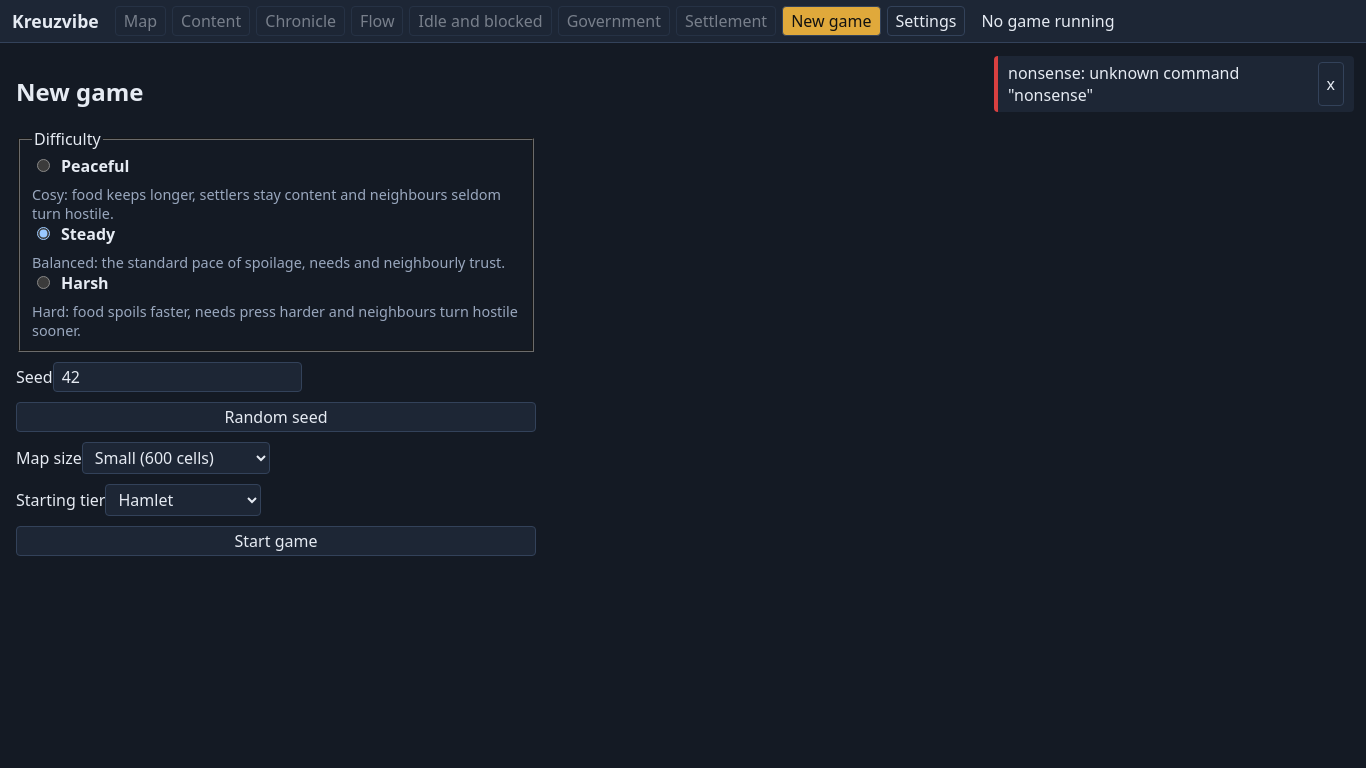
Test: AppShell › shows toasts and dismisses them
Expected: the text "nonsense: unknown command \"nonsense\"" is shown, [1008, 62, 1239, 106]
Click the button named "Dismiss" at {"x": 1331, "y": 84}, box [1318, 62, 1344, 106]
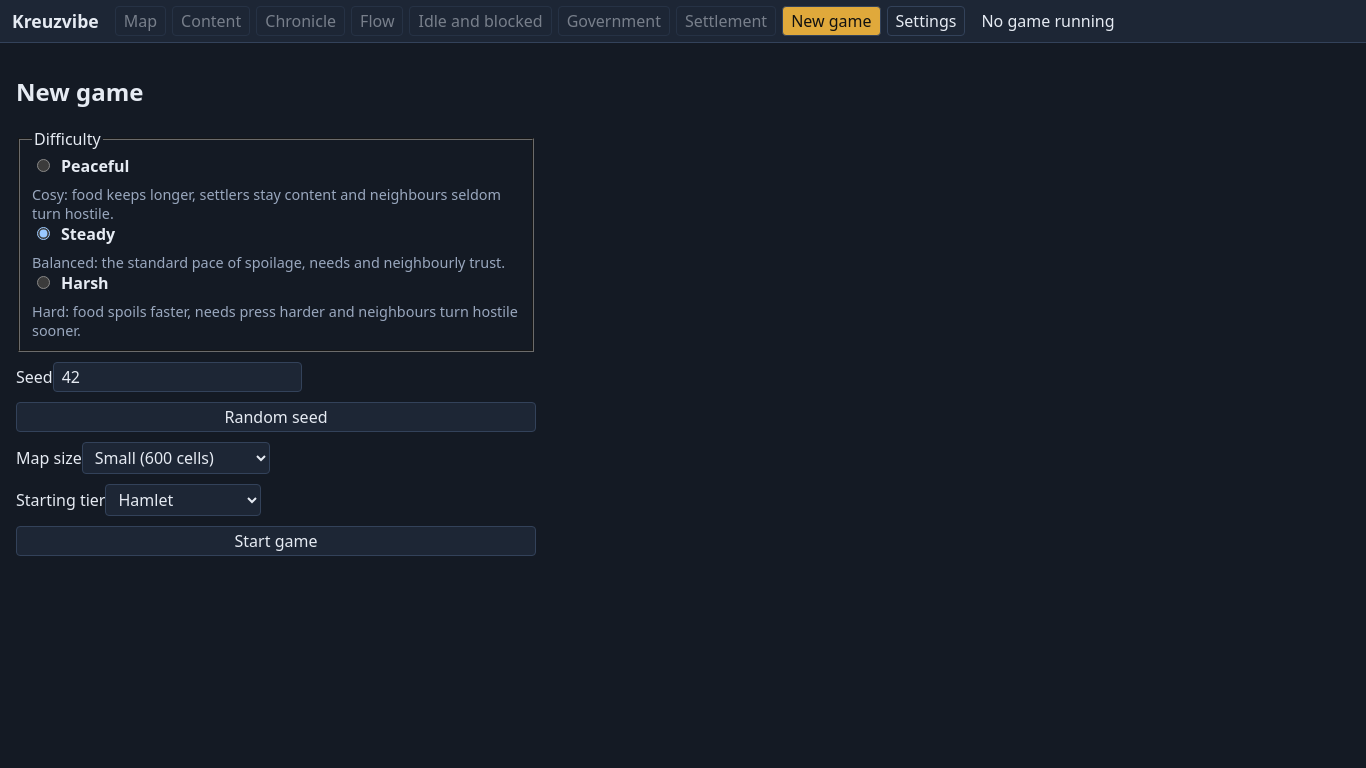
Result: the text "nonsense" is gone
